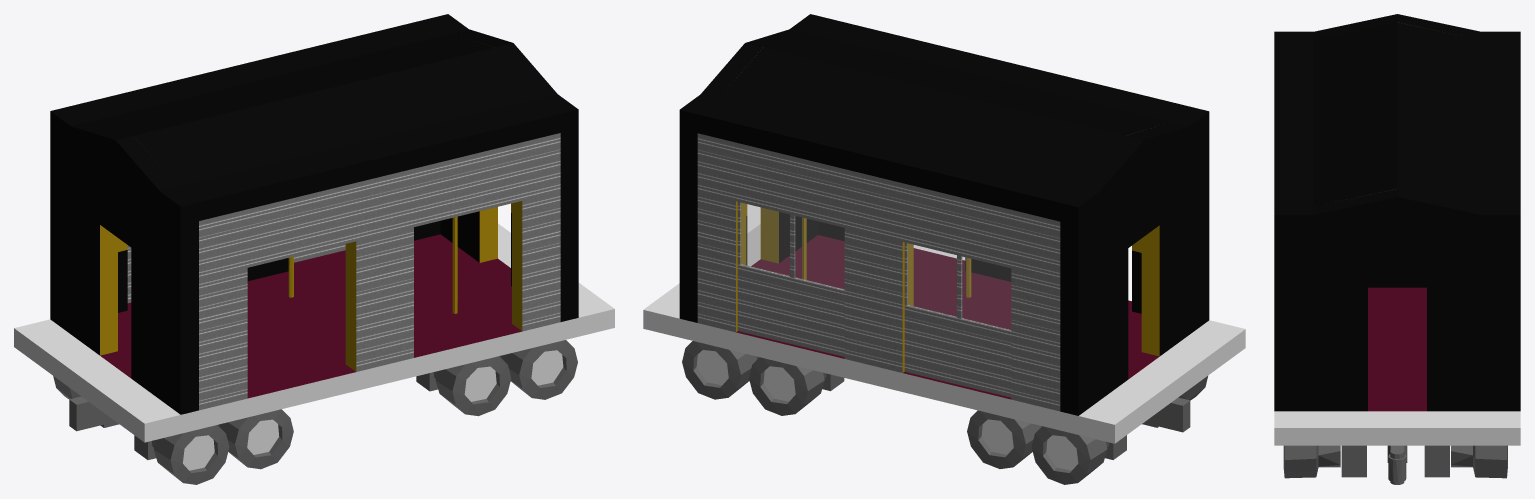
File: SubwayCar_2.glb
3 views of the same model, side by side, from view 1: azimuth 30°, elevation 25°; view 2: azimuth 150°, elevation 25°; view 3: azimuth 270°, elevation 25° (orthographic). The views are drawn at different scales.
Visible parts, largest first — view 1: Ext, Floors, Undercarriage, Grab Bars.001, Locked Doors; view 2: Ext, Locked Doors, Floors, Undercarriage; view 3: Ext, Floors, Undercarriage, Coupling.
Part boxes in pixels (bbox=[...]): Ext: bbox=[50, 14, 578, 414]; Floors: bbox=[14, 223, 614, 442]; Undercarriage: bbox=[53, 340, 577, 484]; Grab Bars.001: bbox=[288, 216, 457, 313]; Locked Doors: bbox=[127, 244, 345, 303]; Ext: bbox=[679, 14, 1209, 415]; Locked Doors: bbox=[737, 202, 1011, 397]; Floors: bbox=[643, 224, 1245, 443]; Undercarriage: bbox=[682, 341, 1207, 484]; Ext: bbox=[1274, 14, 1520, 411]; Floors: bbox=[1274, 287, 1520, 445]; Undercarriage: bbox=[1283, 445, 1507, 478]; Coupling: bbox=[1388, 448, 1406, 484].
Size of what is drawn, in the model's own units: 8.33 by 4.93 by 3.81.
13 materials, 3 textured.
